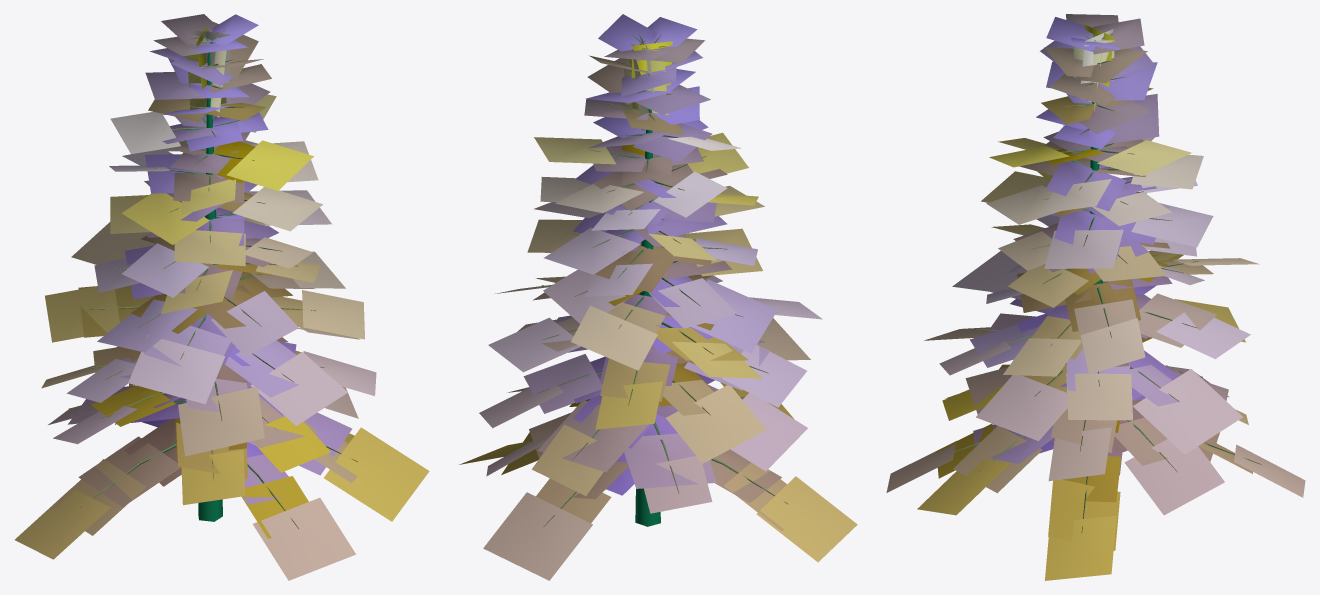
Rendered from tree_pine_lod1.glb.
3 renders of one model, left to right at view 1: azimuth 30°, elevation 25°; view 2: azimuth 150°, elevation 25°; view 3: azimuth 270°, elevation 25°, orthographic. The views are drawn at different scales.
Visible parts, largest first — view 1: tree_pine_cards.001_lod1, tree_pine_bark.001_lod1; view 2: tree_pine_cards.001_lod1, tree_pine_bark.001_lod1; view 3: tree_pine_cards.001_lod1, tree_pine_bark.001_lod1.
Part boxes in pixels (left/top/right/bottom): tree_pine_cards.001_lod1: left=15, top=14, right=429, bottom=580; tree_pine_bark.001_lod1: left=68, top=29, right=357, bottom=528; tree_pine_cards.001_lod1: left=459, top=14, right=857, bottom=580; tree_pine_bark.001_lod1: left=515, top=35, right=788, bottom=527; tree_pine_cards.001_lod1: left=886, top=14, right=1305, bottom=580; tree_pine_bark.001_lod1: left=931, top=27, right=1261, bottom=533.
Size of the model in its own units: 10.16 by 13.03 by 10.31.
